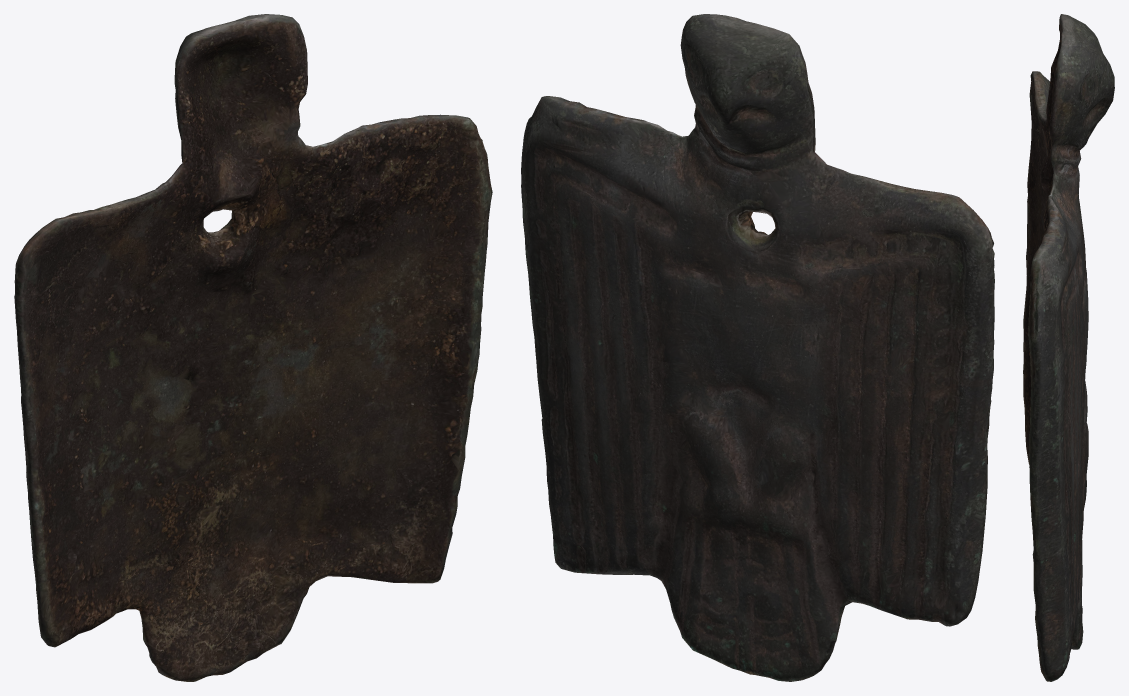
File: bird2_low_re.glb
3 renders of one model, left to right at view 1: azimuth 30°, elevation 25°; view 2: azimuth 150°, elevation 25°; view 3: azimuth 270°, elevation 25°, orthographic. The views are drawn at different scales.
Visible parts, largest first — view 1: Model; view 2: Model; view 3: Model.
Part boxes in pixels (x1,y1,x2,y2): Model: (14,14,492,681); Model: (521,14,994,681); Model: (1023,14,1114,681).
Size of the model in its own units: 0.9551 by 1.25 by 0.1701.
1 material, 1 textured.
